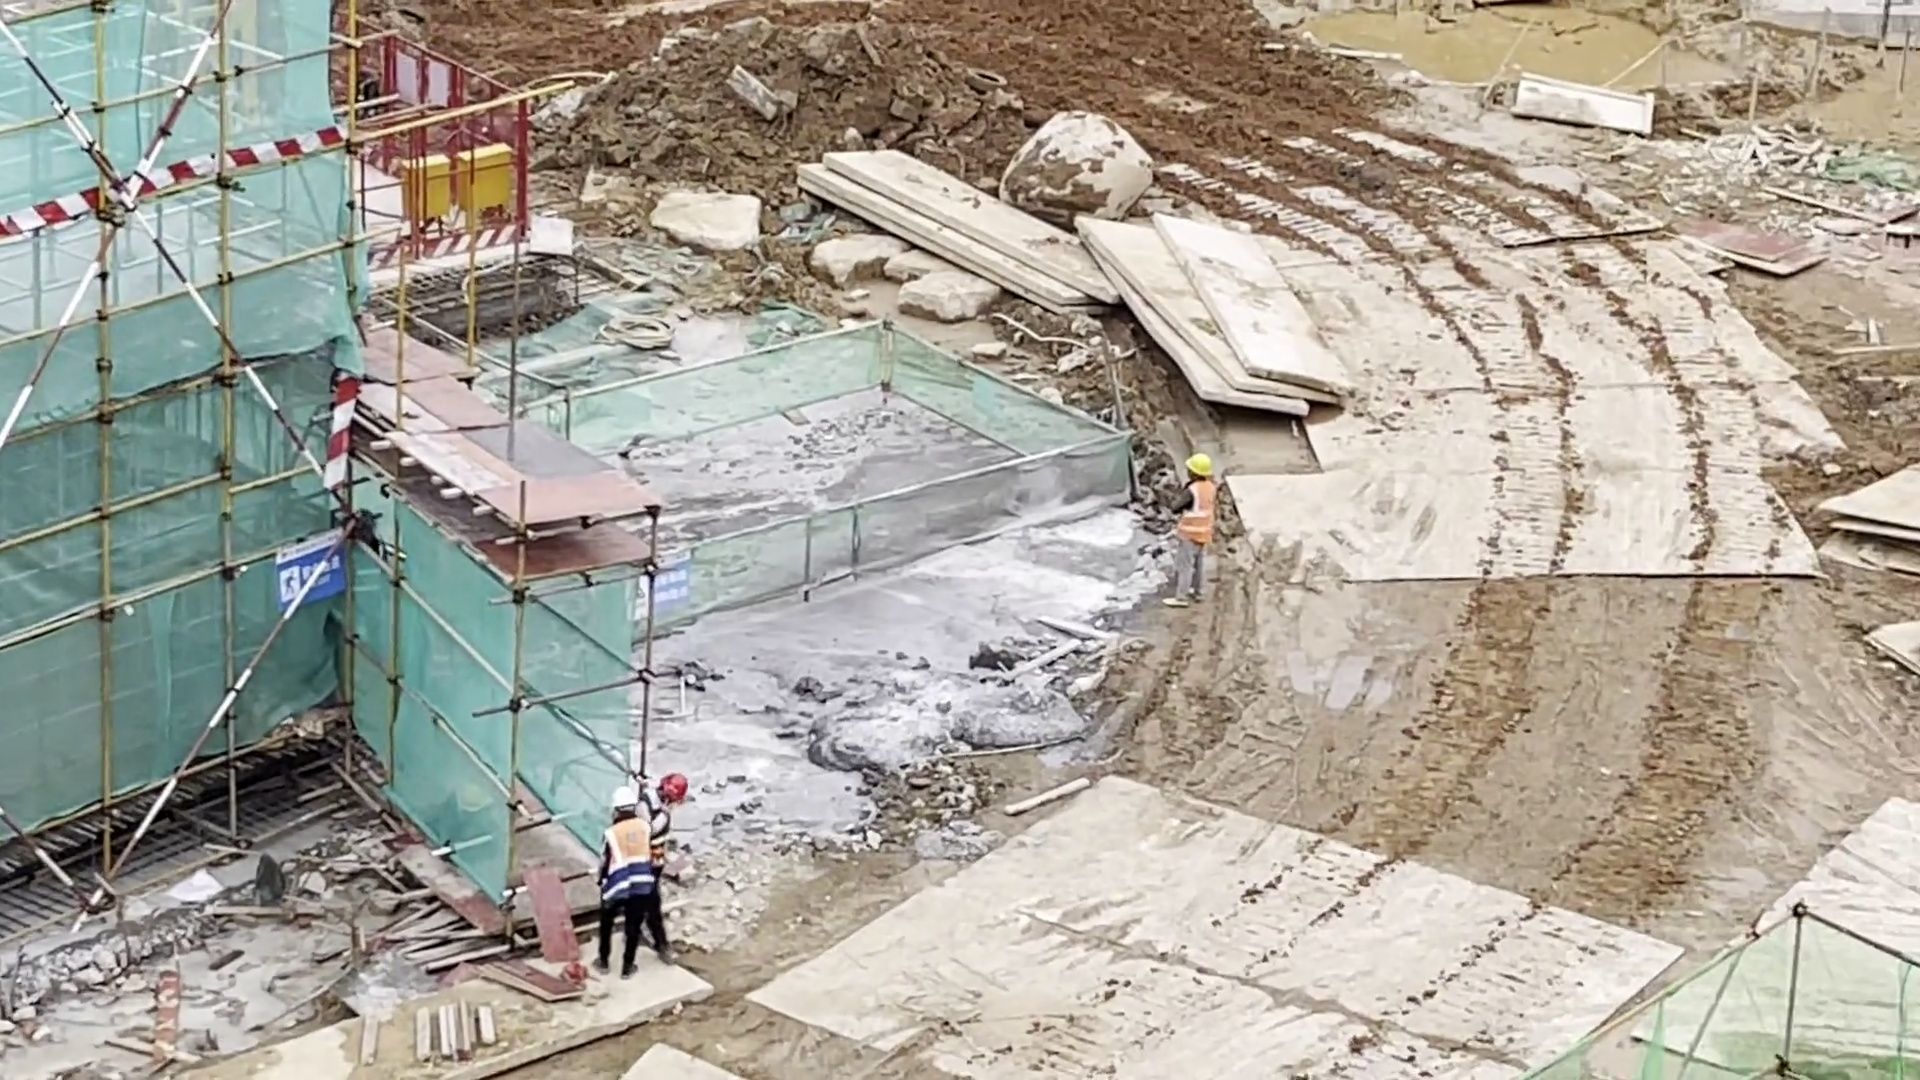helmet: (655, 777, 683, 801), (610, 789, 636, 811), (1185, 455, 1213, 475)
person: (591, 790, 645, 980), (1167, 453, 1217, 613), (647, 779, 691, 948)
vest: (599, 822, 644, 889), (1180, 478, 1218, 552), (647, 808, 669, 875)
